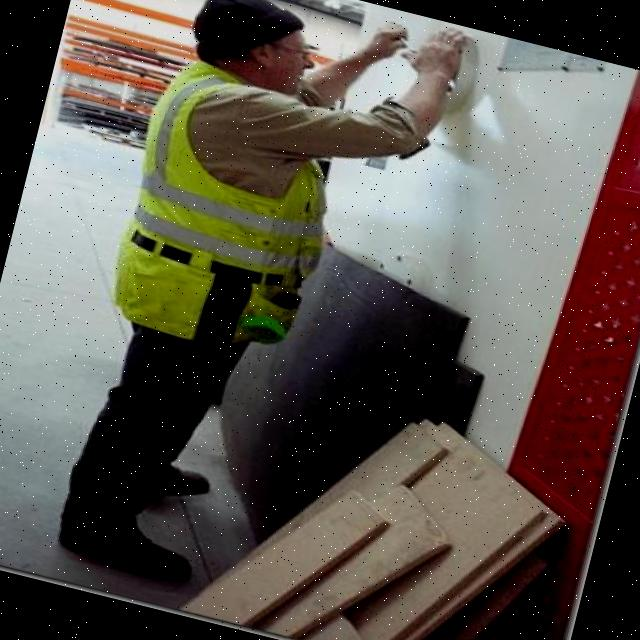vest: (113, 61, 352, 302)
